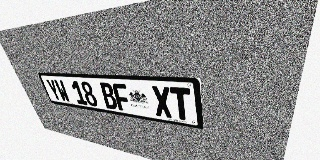1: (69, 80, 88, 105)
8: (79, 81, 99, 107)
B: (99, 82, 119, 110)
F: (112, 83, 132, 112)
T: (170, 87, 192, 121)
W: (53, 79, 71, 103)
X: (151, 86, 173, 118)
Y: (45, 79, 62, 101)
